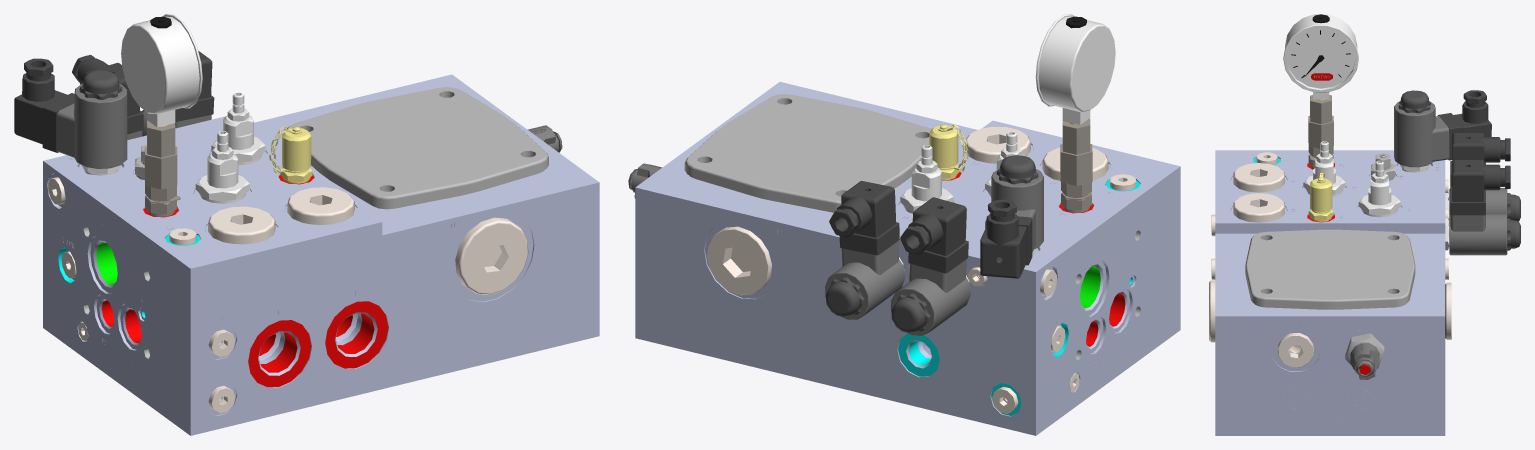
Rendered from 6Manifold_Low.fbx.
3 renders of one model, left to right at view 1: azimuth 30°, elevation 25°; view 2: azimuth 150°, elevation 25°; view 3: azimuth 270°, elevation 25°, orthographic. The views are drawn at different scales.
Visible parts, largest first — view 1: 6Manifold_Low; view 2: 6Manifold_Low; view 3: 6Manifold_Low.
Part boxes in pixels (box(x1,y1,x2,y2)): 6Manifold_Low: box(14, 14, 599, 435); 6Manifold_Low: box(628, 14, 1180, 435); 6Manifold_Low: box(1209, 14, 1520, 435).
Bounding box in the file's own units: 367 × 274 × 271.
